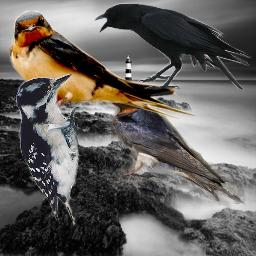Crow: (94, 3, 252, 91)
Swallow: (7, 10, 197, 126), (103, 83, 247, 207)
Woodpecker: (16, 74, 83, 228)
